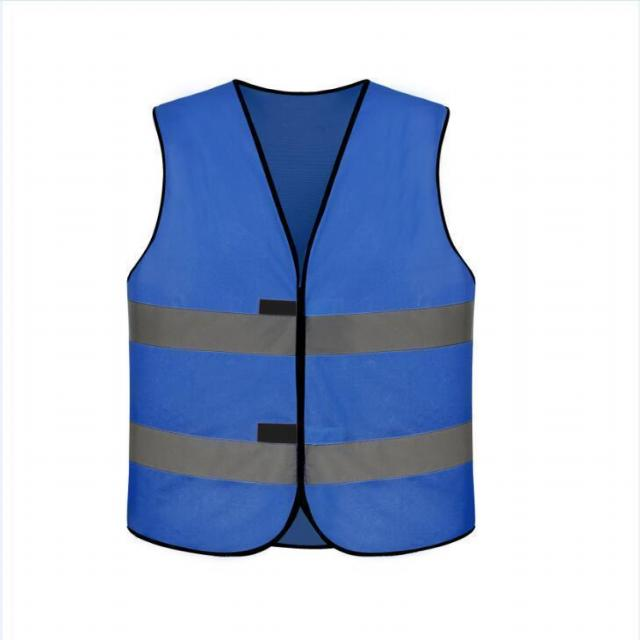vest: (125, 79, 476, 558)
